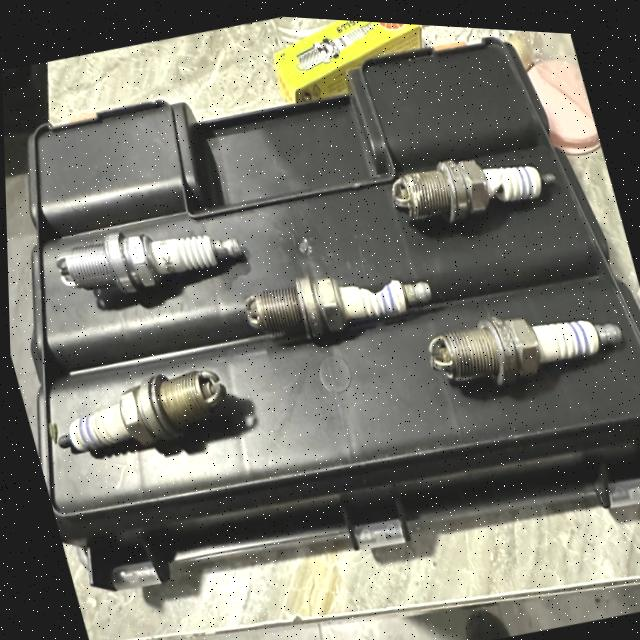damaged_spark-plug: (239, 247, 434, 355), (380, 136, 560, 228)
spark-plug: (410, 269, 629, 400), (44, 203, 238, 311), (44, 360, 229, 470)
